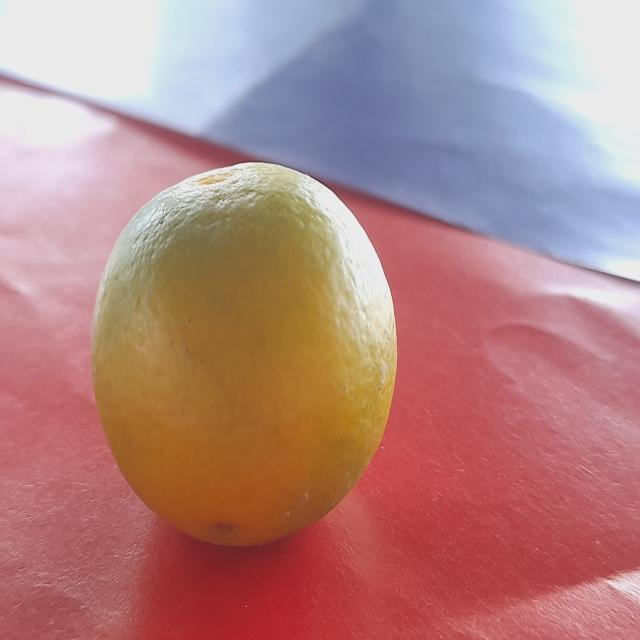greening: (90, 166, 418, 561)
